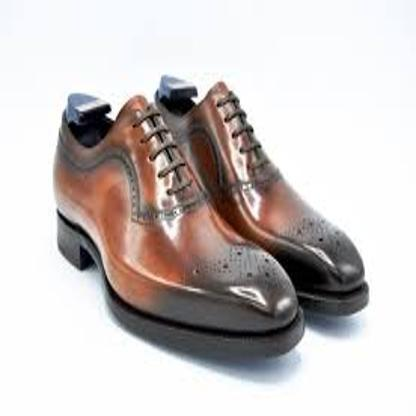not trash: (52, 74, 367, 360)
